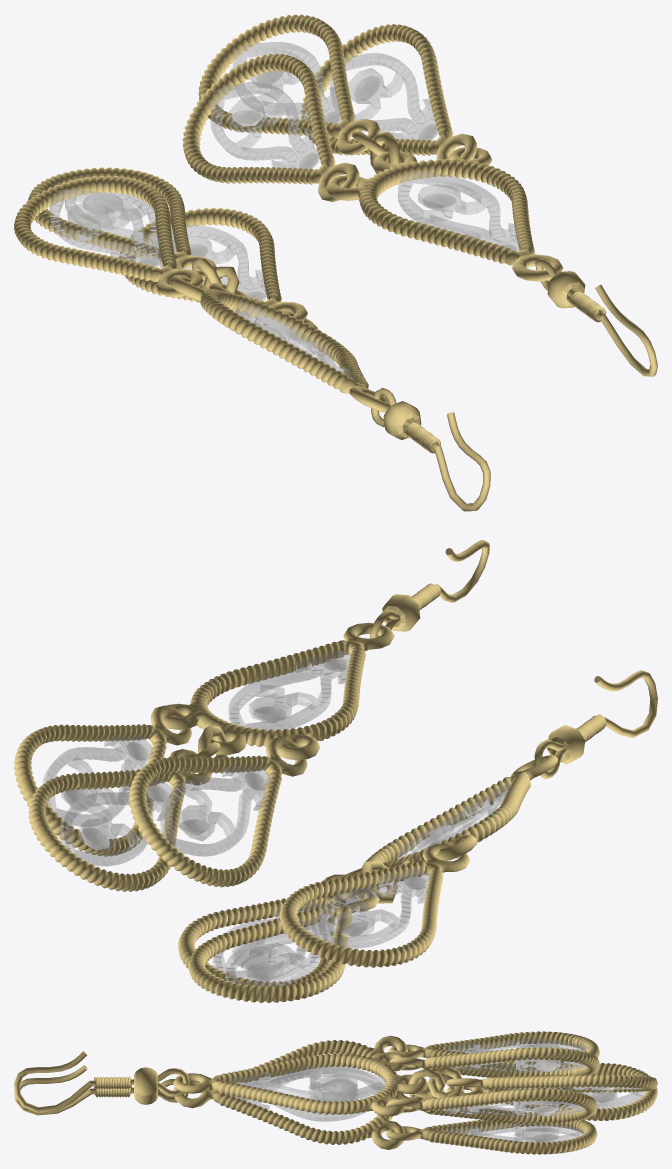
Rendered from Aretes1.glb.
The picture shows the model from 3 angles, top to bottom: view 1: azimuth 30°, elevation 25°; view 2: azimuth 150°, elevation 25°; view 3: azimuth 270°, elevation 25°; orthographic projection. The views are drawn at different scales.
Parts seen in each view (by area): view 1: 11763_earings_v1_L1; view 2: 11763_earings_v1_L1; view 3: 11763_earings_v1_L1.
Boxes of the visible parts, bbox=[...] form: 11763_earings_v1_L1: bbox=[14, 14, 657, 511]; 11763_earings_v1_L1: bbox=[14, 540, 657, 1002]; 11763_earings_v1_L1: bbox=[14, 1031, 657, 1154].
Size of the model in its own units: 4.12 by 1.84 by 7.61.
